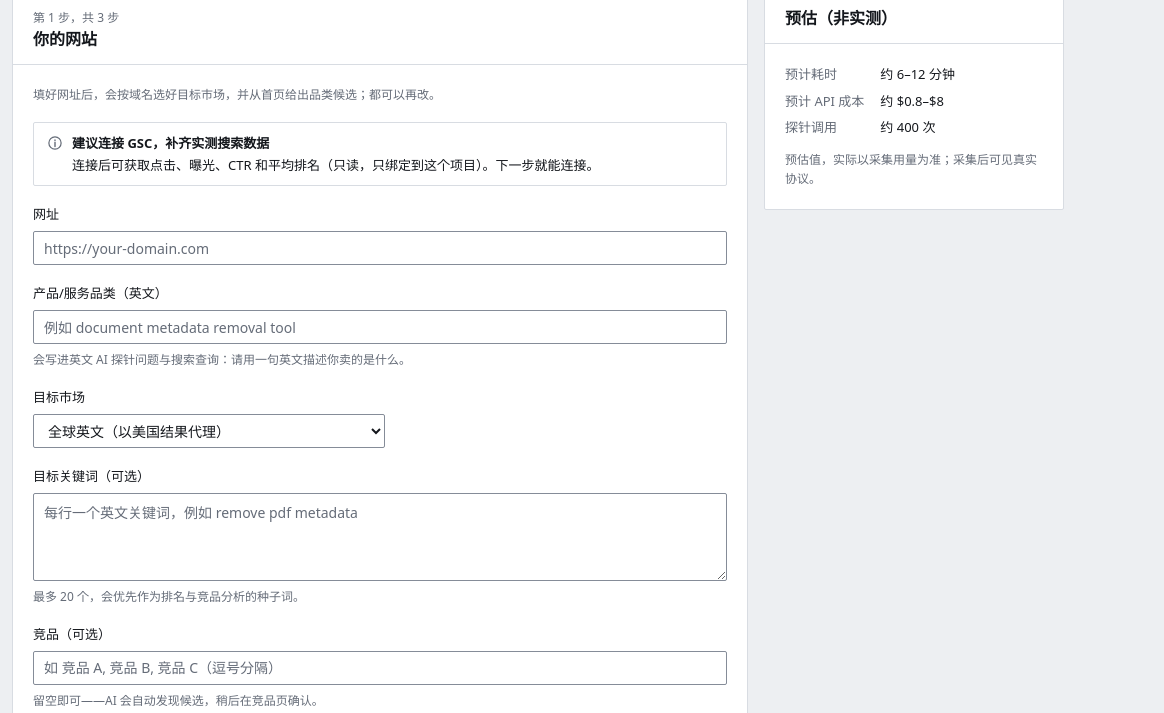
NewAnalysisForm 第 2 步数据连接三态 › 输入已存在域名时，同步该项目的 GSC 资源与默认探针配置
Type "https://example.com" into the field labelled "网址". click: (380, 248)
box: top-left (33, 231), bottom-right (727, 265)
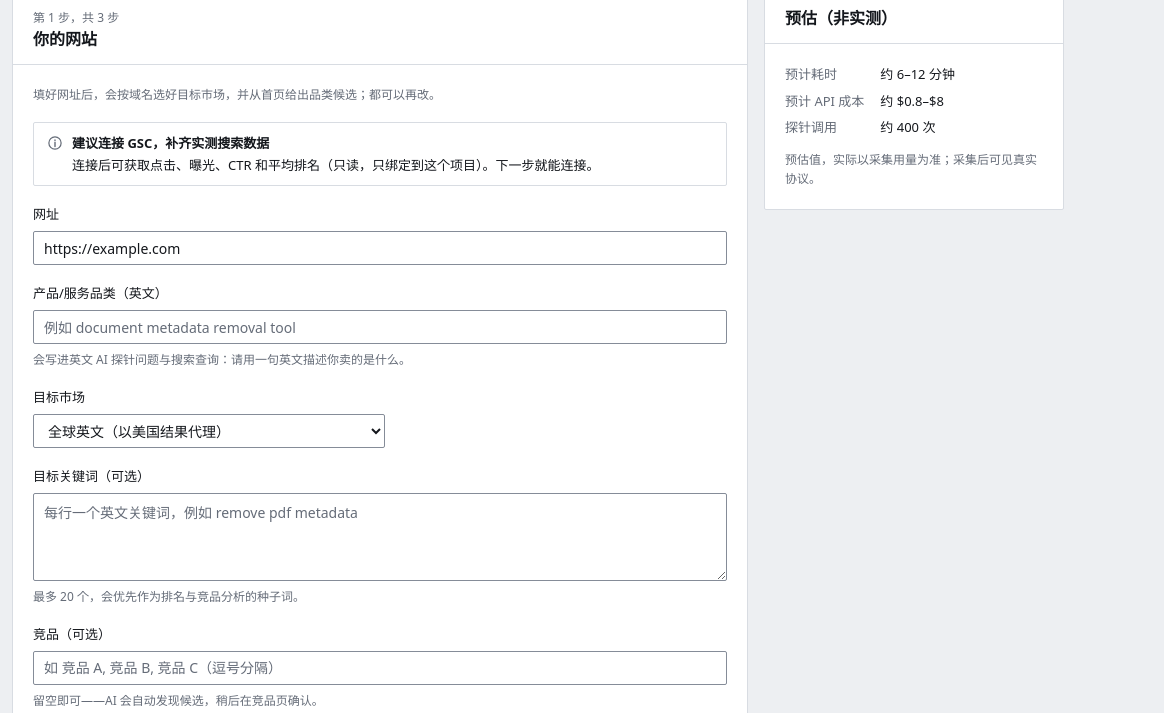
Type "saas tool" into the field labelled "产品/服务品类（英文）". click: (380, 327)
box: top-left (33, 310), bottom-right (727, 344)
(page scrolled)
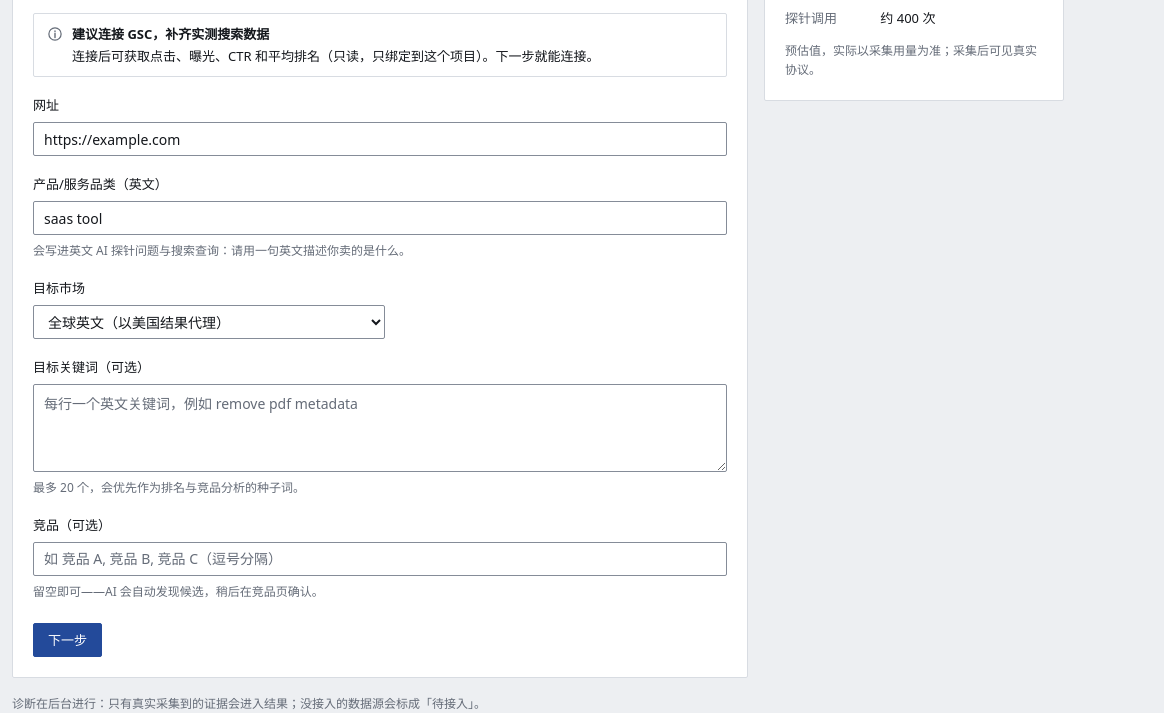
Click the button "下一步". click: (68, 640)
box: top-left (33, 623), bottom-right (102, 657)
(page scrolled)
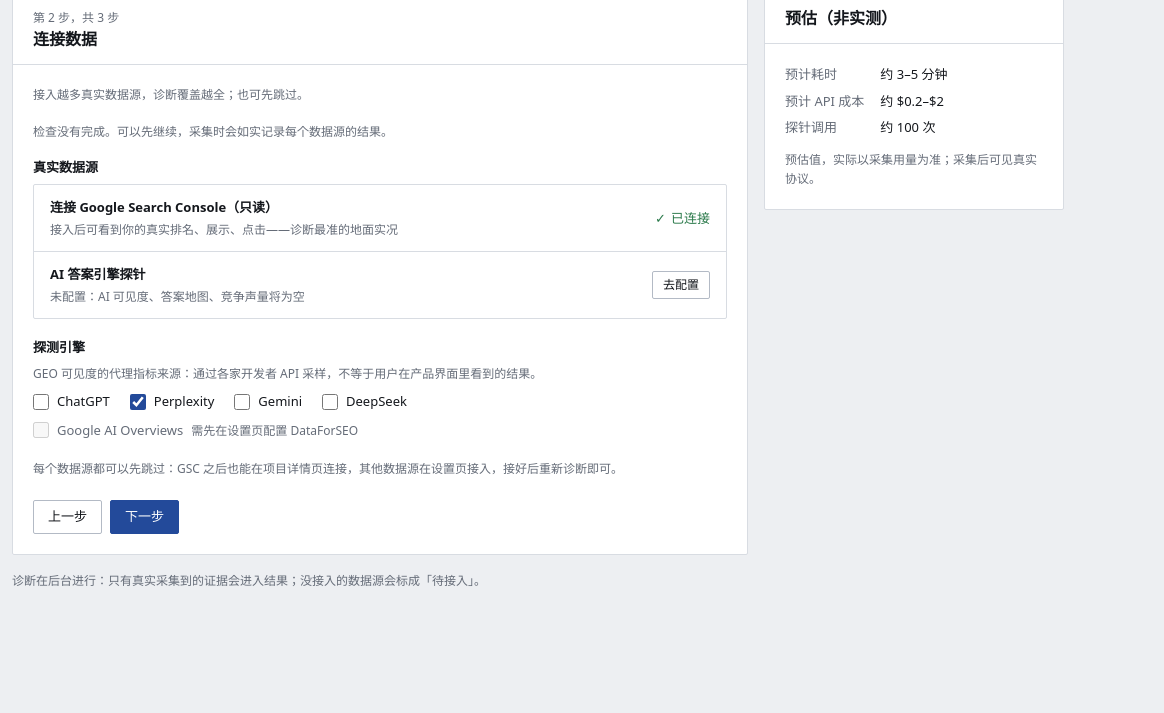
Result: the heading "连接数据" is shown at top-left (33, 28), bottom-right (97, 50)
Result: the text "已连接" is shown at top-left (655, 208), bottom-right (710, 229)
Result: the checkbox labelled "ChatGPT" is not checked at top-left (33, 394), bottom-right (49, 410)
